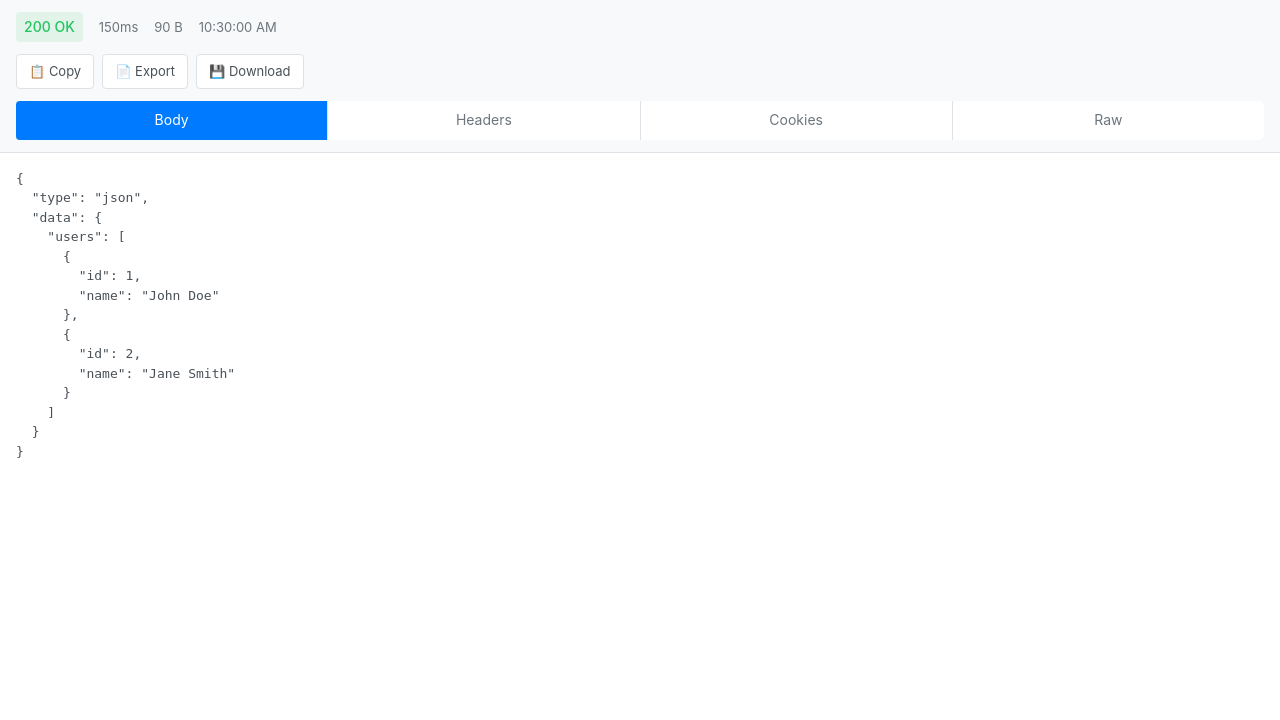
Scenario: ResponseView › should switch to raw tab when clicked
Click the button "Raw" at (1108, 120), box [953,101,1264,140]
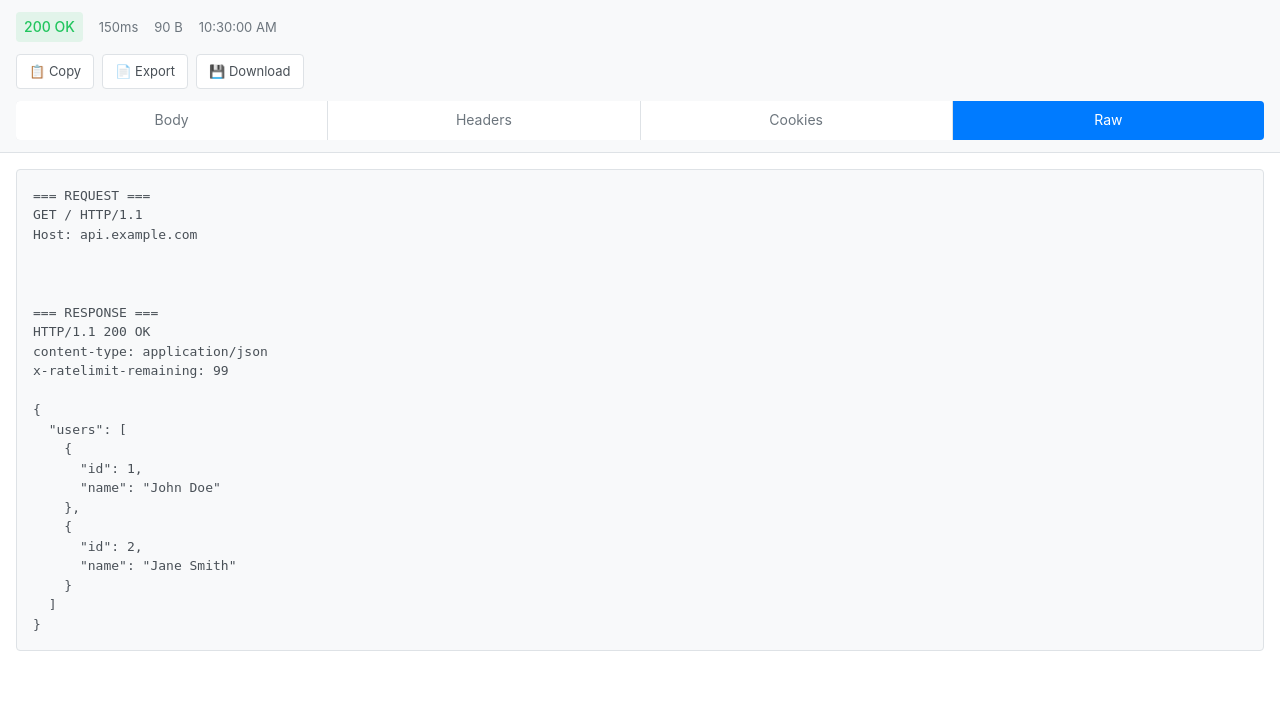
expect the text "=== RESPONSE ===" is shown: met, box [33,188,268,632]
